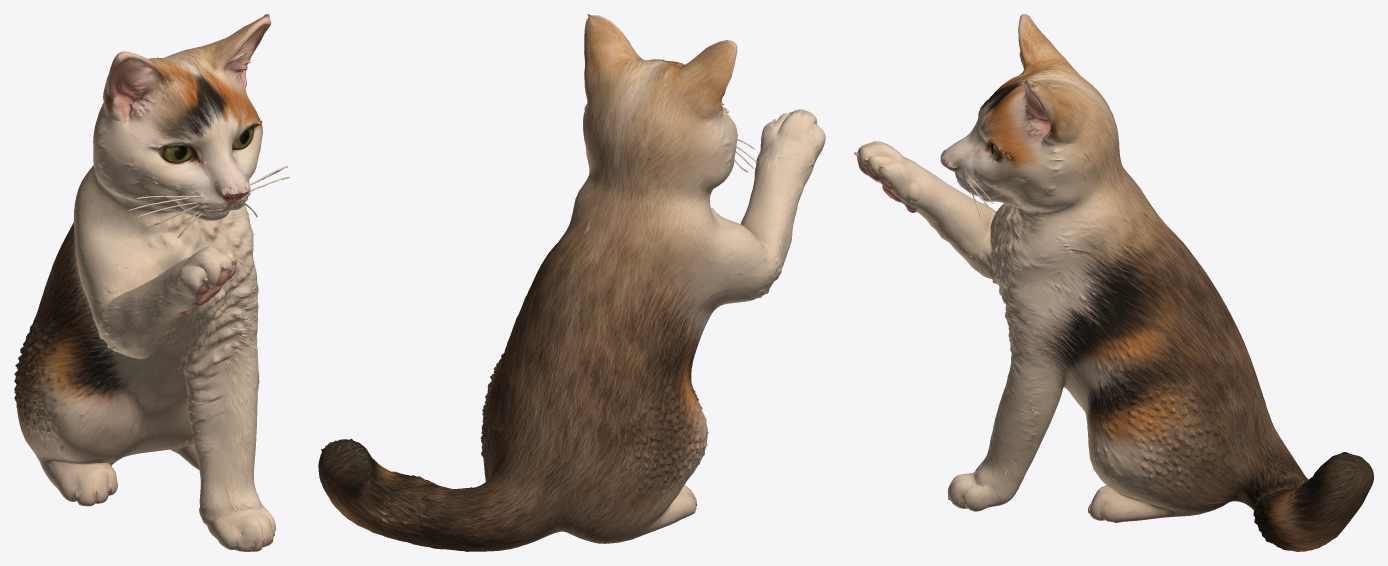
File: MiaBuBu3D.fbx
The picture shows the model from 3 angles, left to right: view 1: azimuth 30°, elevation 25°; view 2: azimuth 150°, elevation 25°; view 3: azimuth 270°, elevation 25°; orthographic projection. The views are drawn at different scales.
Parts seen in each view (by area): view 1: MiaBuBu3D; view 2: MiaBuBu3D; view 3: MiaBuBu3D.
Boxes of the visible parts, x1,y1,x2,y2 form: MiaBuBu3D: [14, 14, 289, 551]; MiaBuBu3D: [318, 14, 825, 551]; MiaBuBu3D: [854, 14, 1373, 551].
Size of the model in its own units: 61.07 by 92.78 by 97.89.
Materials: 1 (1 with a texture image).
